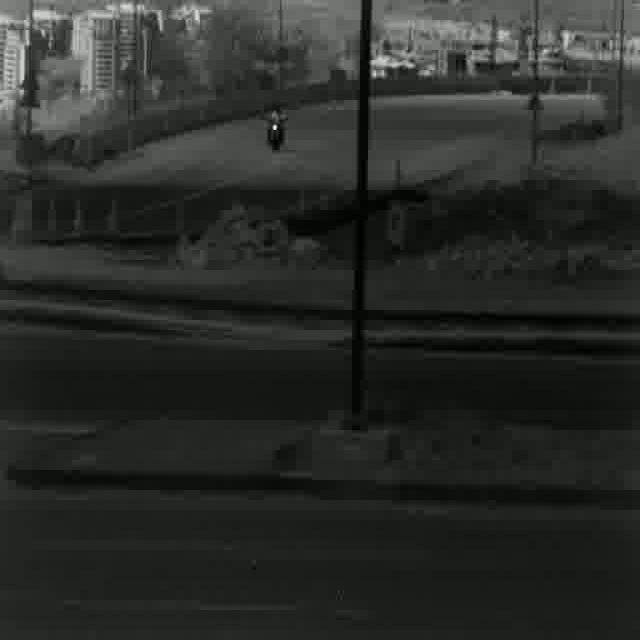Motorcycle: (262, 101, 292, 159)
